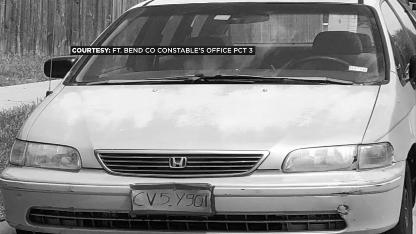license plate: (127, 180, 221, 218)
